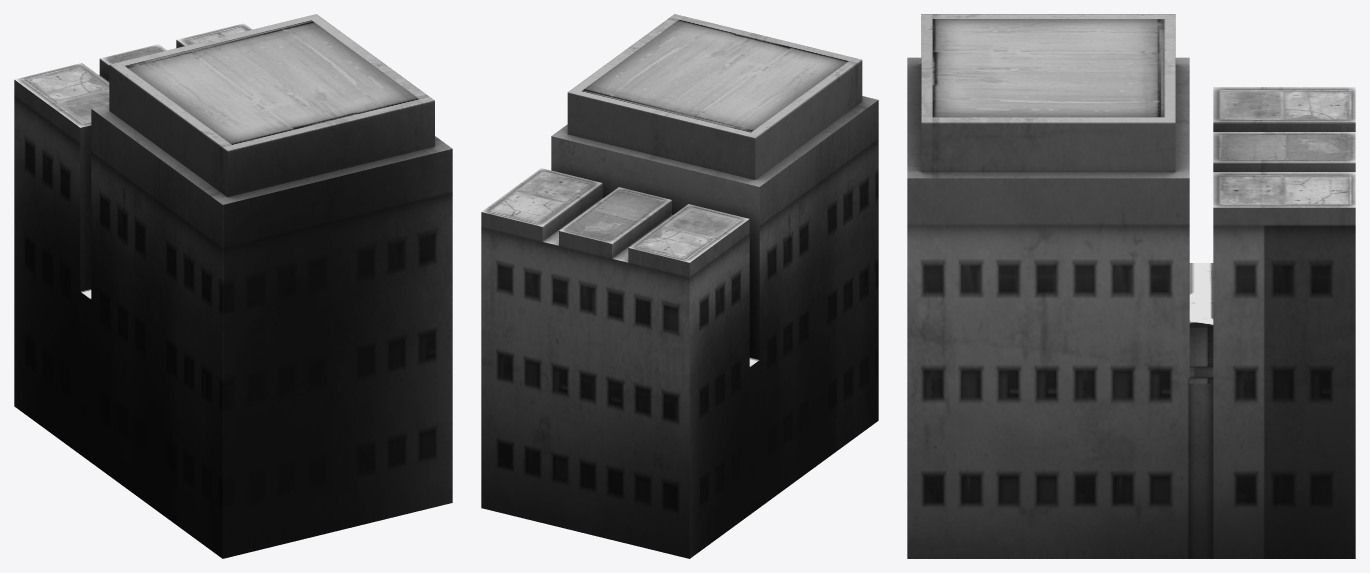
Rendered from SmallBld1.DAE.
3 renders of one model, left to right at view 1: azimuth 30°, elevation 25°; view 2: azimuth 150°, elevation 25°; view 3: azimuth 270°, elevation 25°, orthographic. The views are drawn at different scales.
Parts seen in each view (by area): view 1: SmallBld1-Pivot; view 2: SmallBld1-Pivot; view 3: SmallBld1-Pivot.
Boxes of the visible parts, x1,y1,x2,y2 form: SmallBld1-Pivot: [14, 14, 452, 558]; SmallBld1-Pivot: [481, 14, 878, 558]; SmallBld1-Pivot: [907, 14, 1355, 558].
Bounding box in the file's own units: 21.67 × 34.04 × 36.04.
